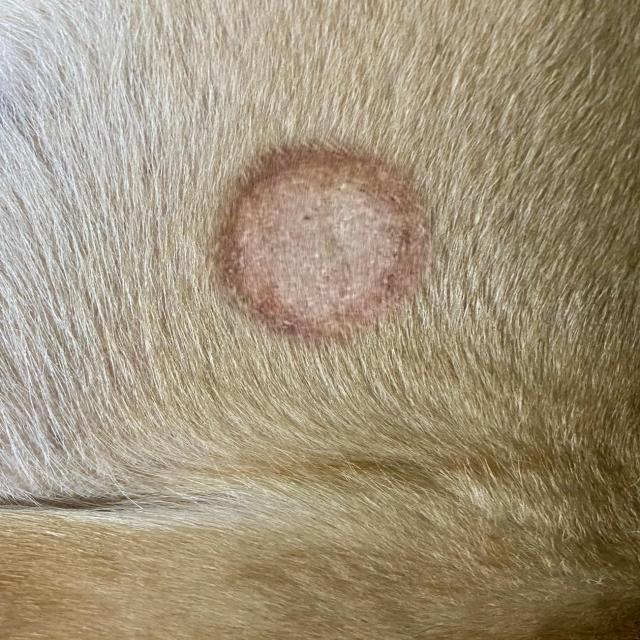ringworm: (199, 138, 454, 349)
